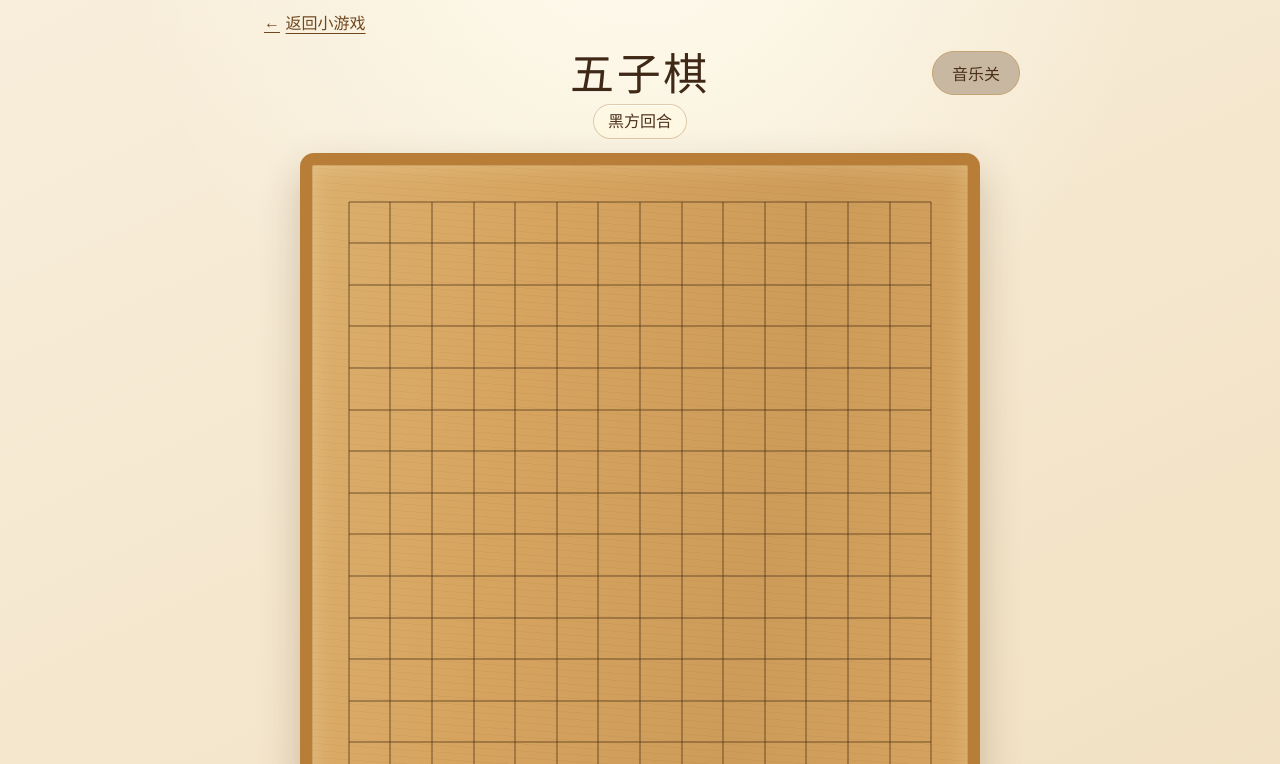
Test: GomokuPage › 音乐偏好关闭时棋盘操作不解锁，已验证开启信号到达后解锁并播放
expect the button "音乐关" is shown: met, box 932,51 -> 1020,95
Click the button named "第 8 行第 8 列，空位".
click(640, 493)  # box 619,472 -> 661,514
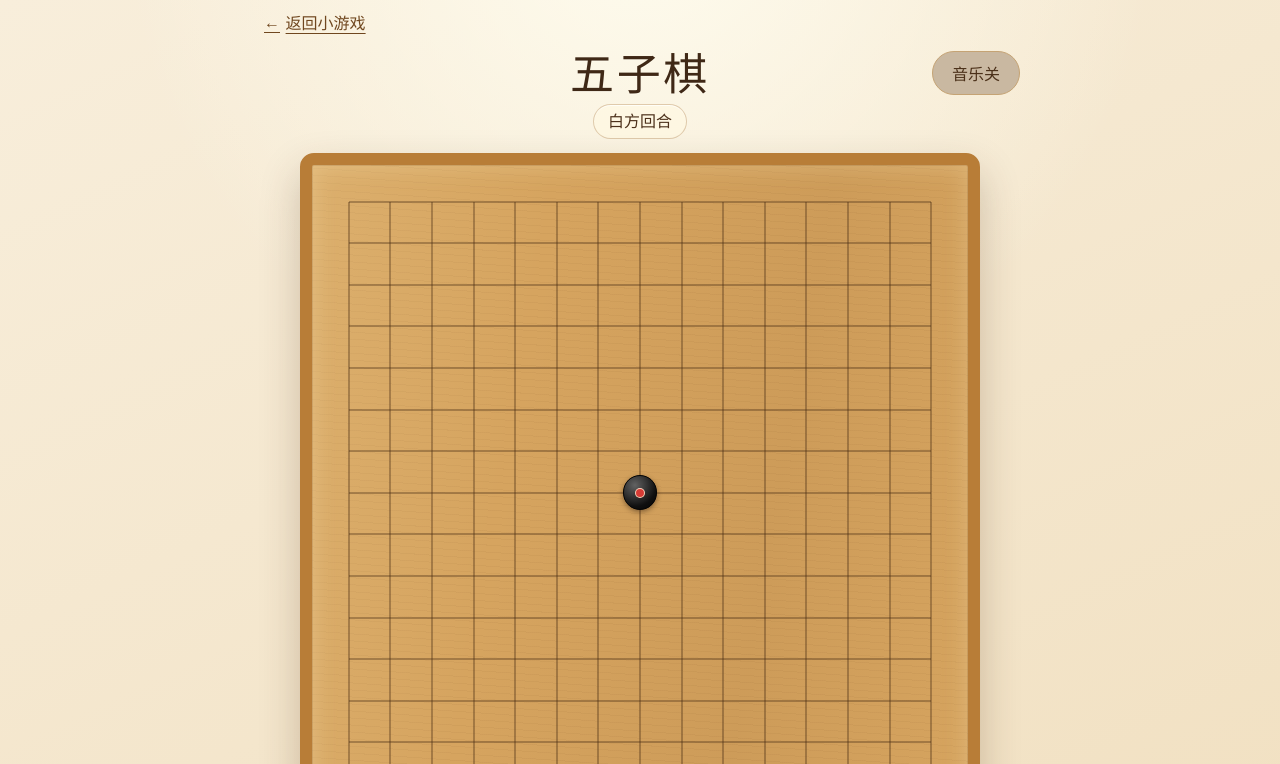
Click the button "音乐关".
click(976, 73)  # box 932,51 -> 1020,95
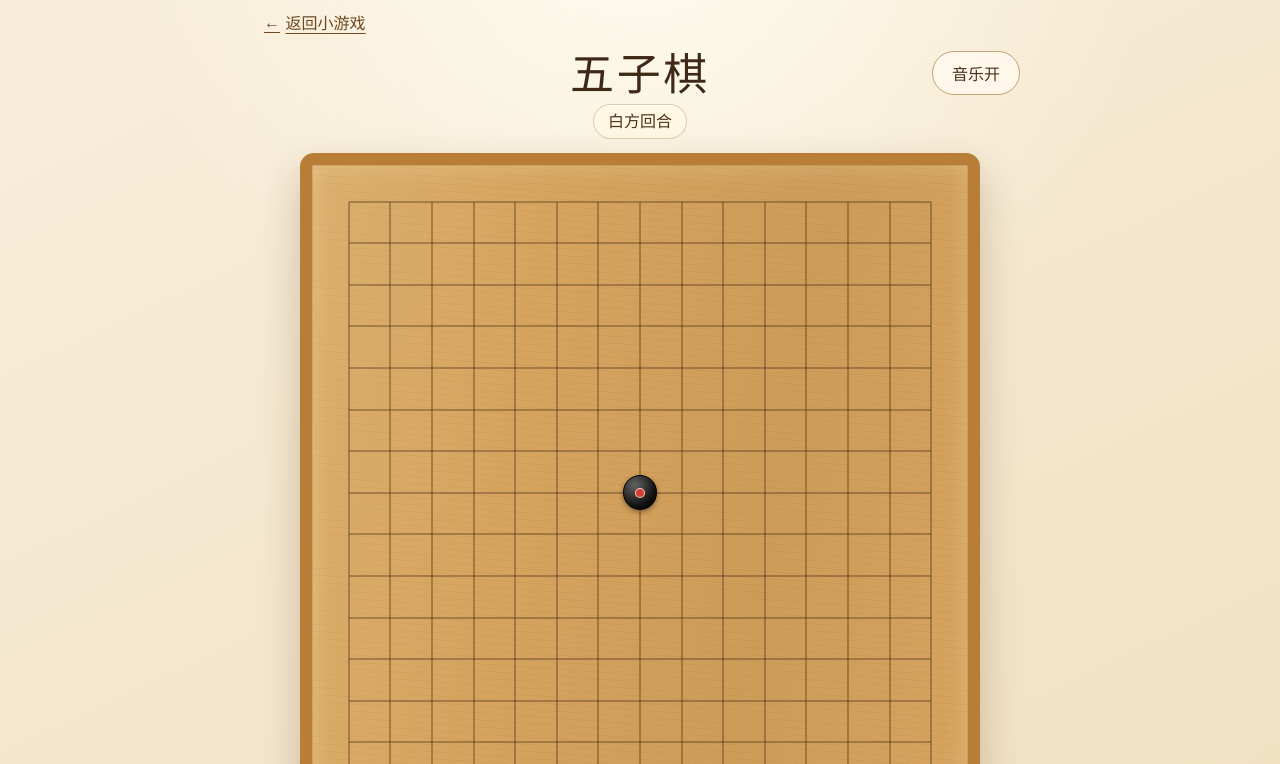
expect the button "音乐开" is shown: met, box 932,51 -> 1020,95
